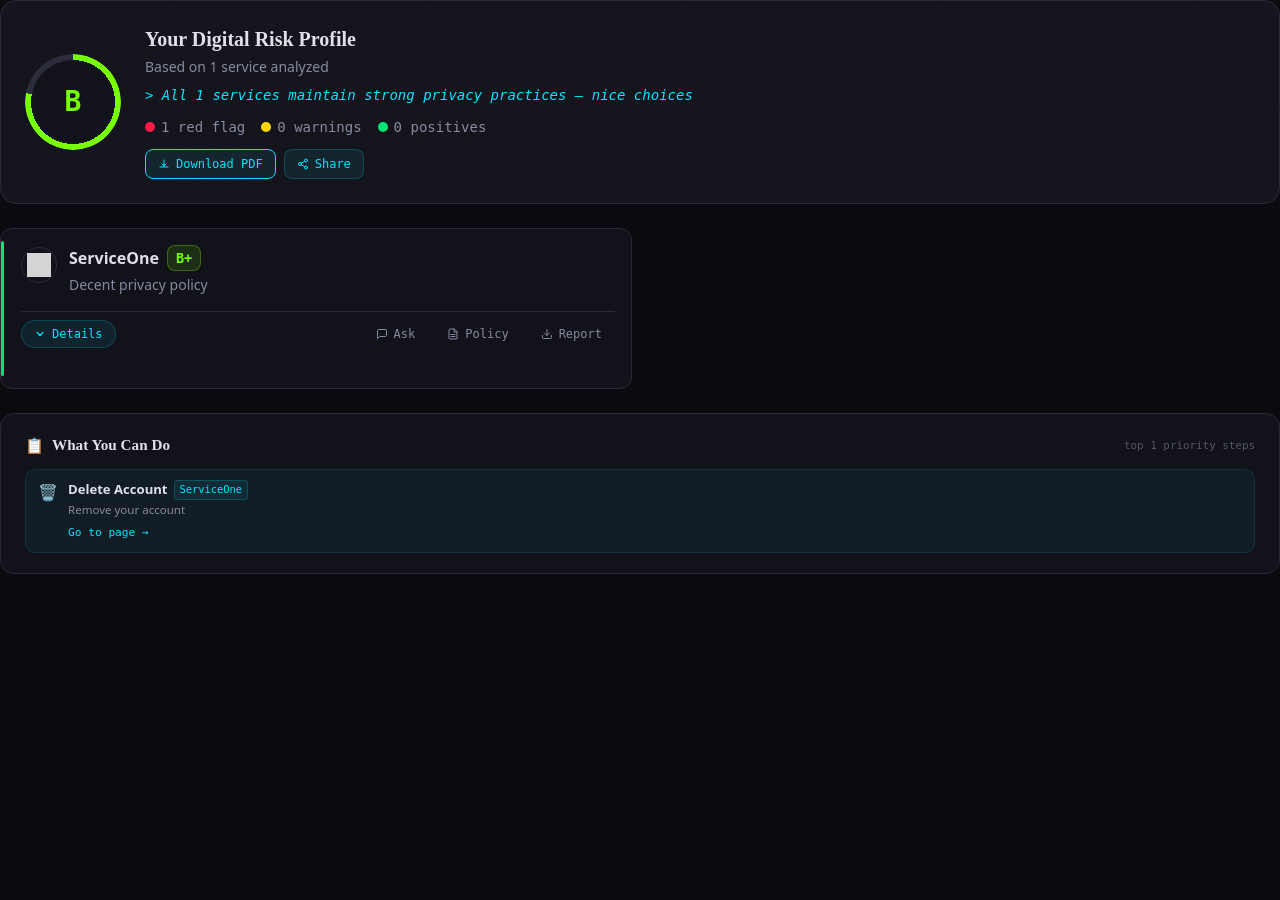
RiskProfile › reveals quote text when excerpt button is clicked
The image size is (1280, 900).
Click the button titled "Show detailed findings".
click(68, 334)  # box [21,320,116,348]
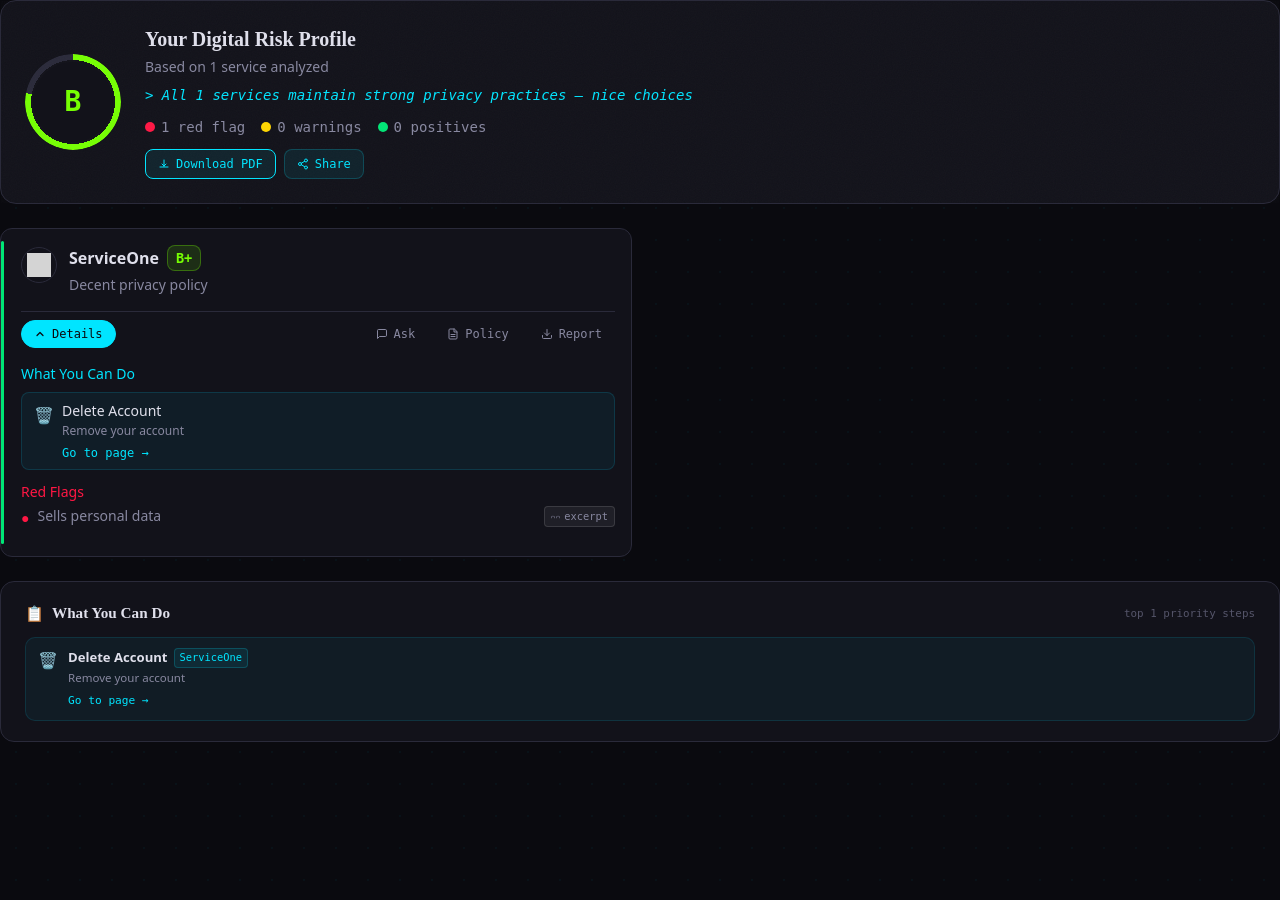
Expected: the text "We may sell your personal information" is not shown
Click the button titled "Show policy excerpt".
click(580, 517)  # box [544,506,615,527]
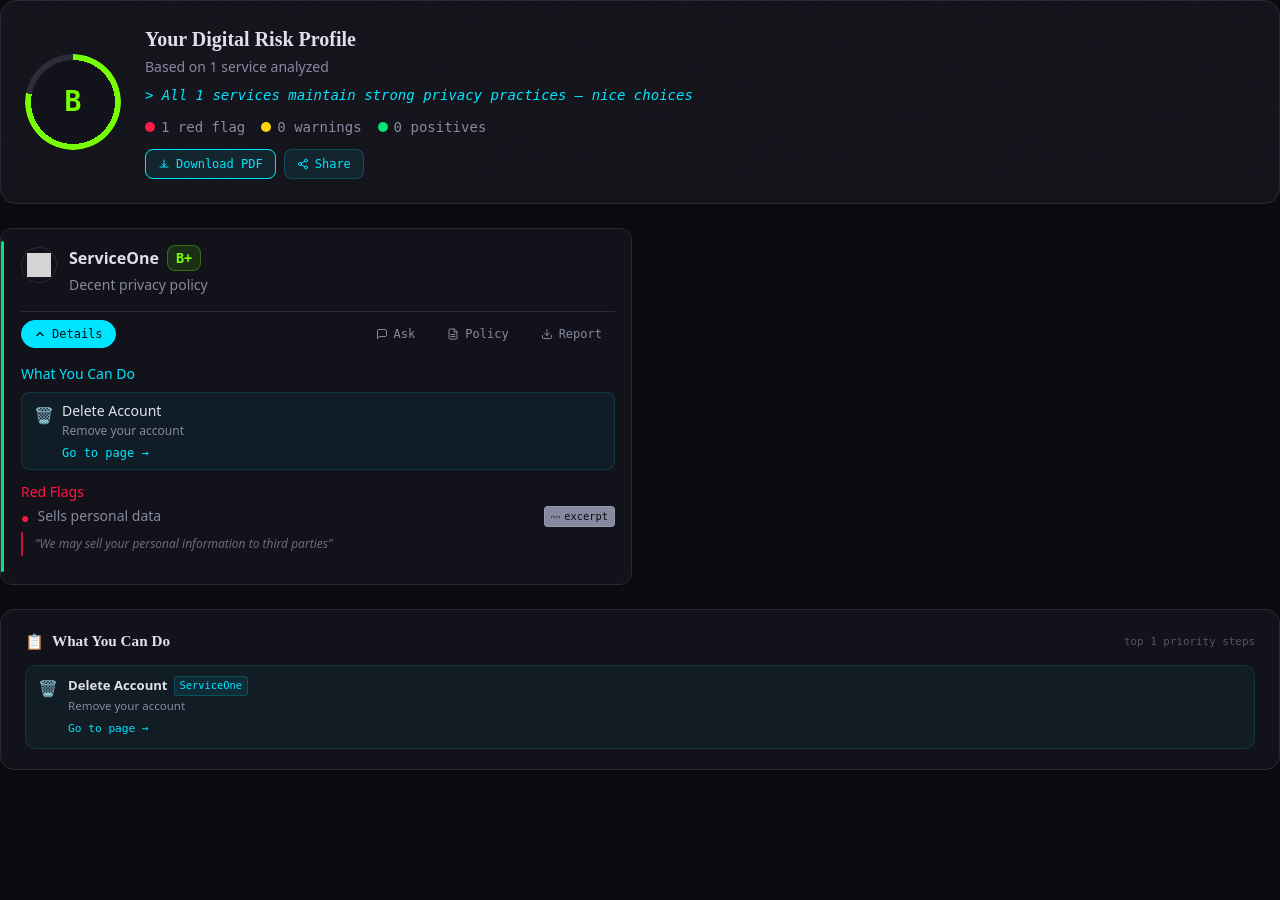
Expected: the text "“We may sell your personal information to third parties”" is shown, [21,532,615,556]
